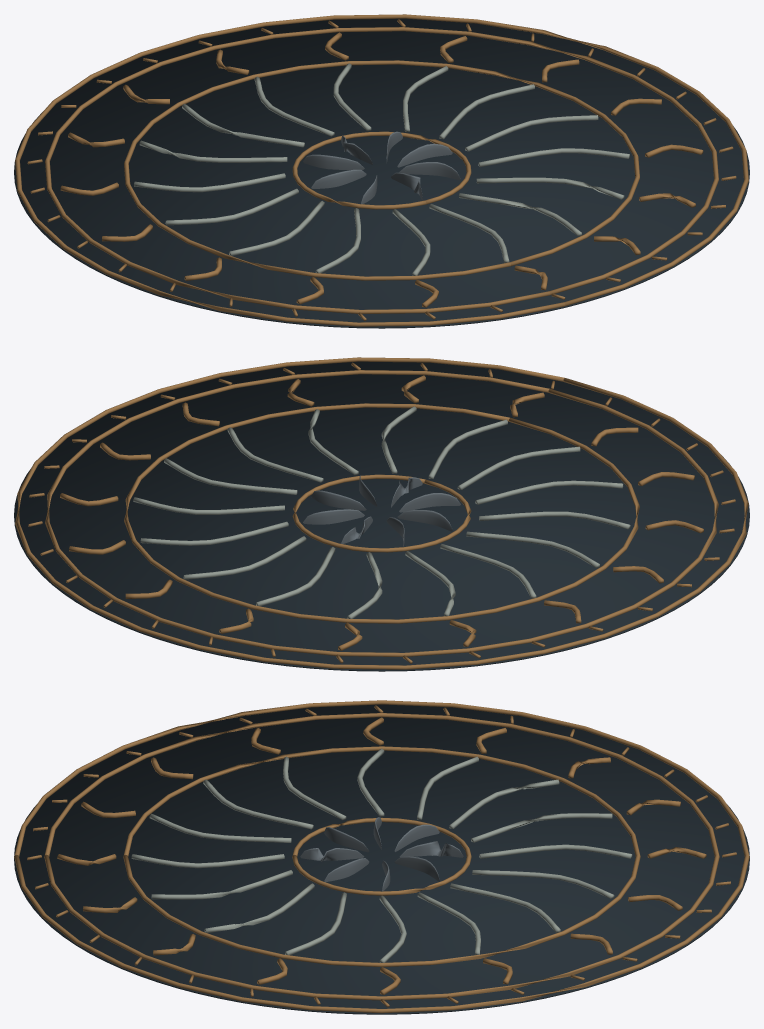
Rendered from sanctuary_intarsia.glb.
3 views of the same model, one above another, from view 1: azimuth 30°, elevation 25°; view 2: azimuth 150°, elevation 25°; view 3: azimuth 270°, elevation 25° (orthographic).
Visible parts, largest first — view 1: Body__recess, Body__bronze, Body__edge, Body__stone; view 2: Body__recess, Body__bronze, Body__edge, Body__stone; view 3: Body__recess, Body__bronze, Body__edge, Body__stone.
Boxes of the visible parts, x1=… form: Body__recess: x1=14, y1=18, x2=749, y2=328; Body__bronze: x1=15, y1=14, x2=748, y2=326; Body__edge: x1=134, y1=63, x2=629, y2=275; Body__stone: x1=303, y1=131, x2=460, y2=204; Body__recess: x1=14, y1=361, x2=749, y2=671; Body__bronze: x1=15, y1=357, x2=748, y2=669; Body__edge: x1=133, y1=406, x2=630, y2=618; Body__stone: x1=303, y1=475, x2=460, y2=546; Body__recess: x1=14, y1=704, x2=749, y2=1014; Body__bronze: x1=14, y1=700, x2=749, y2=1013; Body__edge: x1=131, y1=748, x2=632, y2=962; Body__stone: x1=300, y1=817, x2=463, y2=891.
Bounding box in the file's own units: 5.4 × 0.19 × 5.4.
